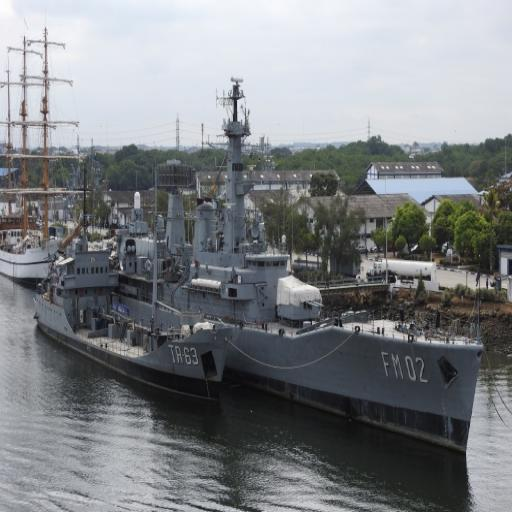Fragata: (70, 80, 484, 466)
